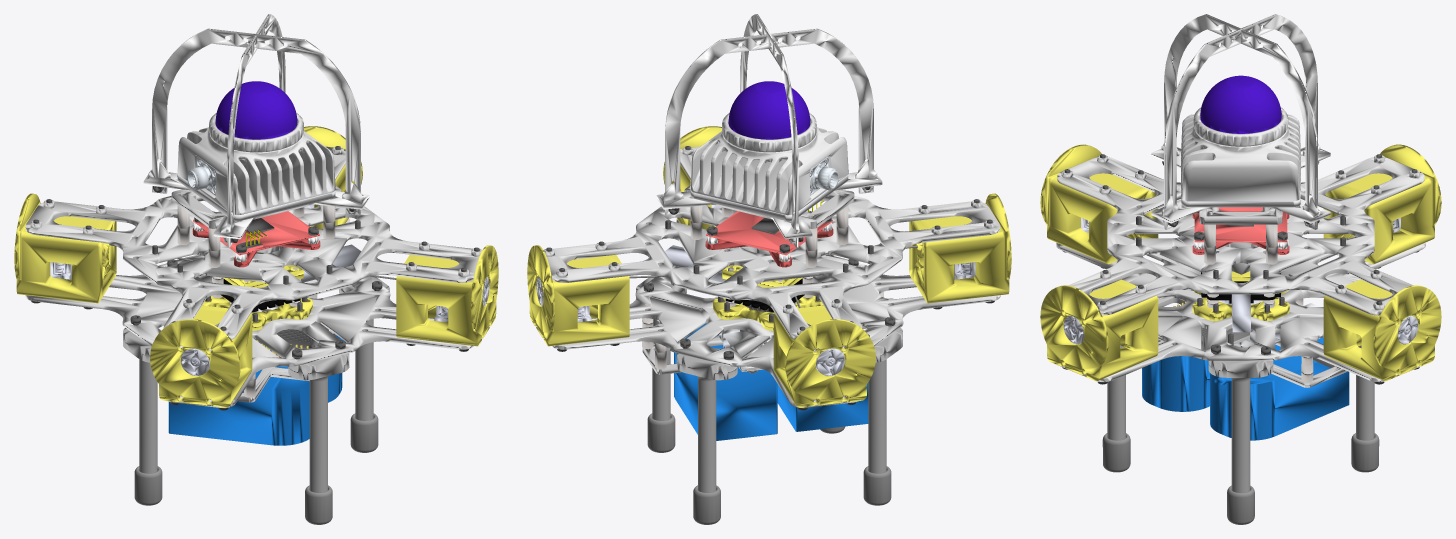
The picture shows the model from 3 angles, left to right: view 1: azimuth 30°, elevation 25°; view 2: azimuth 150°, elevation 25°; view 3: azimuth 270°, elevation 25°; orthographic projection.
Visible parts, largest first — view 1: base; view 2: base; view 3: base.
Boxes of the visible parts, left/top/right/bottom form: base: left=14, top=14, right=498, bottom=524; base: left=527, top=14, right=1011, bottom=524; base: left=1040, top=14, right=1441, bottom=524.
Bounding box in the file's own units: 0.2168 × 0.2168 × 0.2618.
